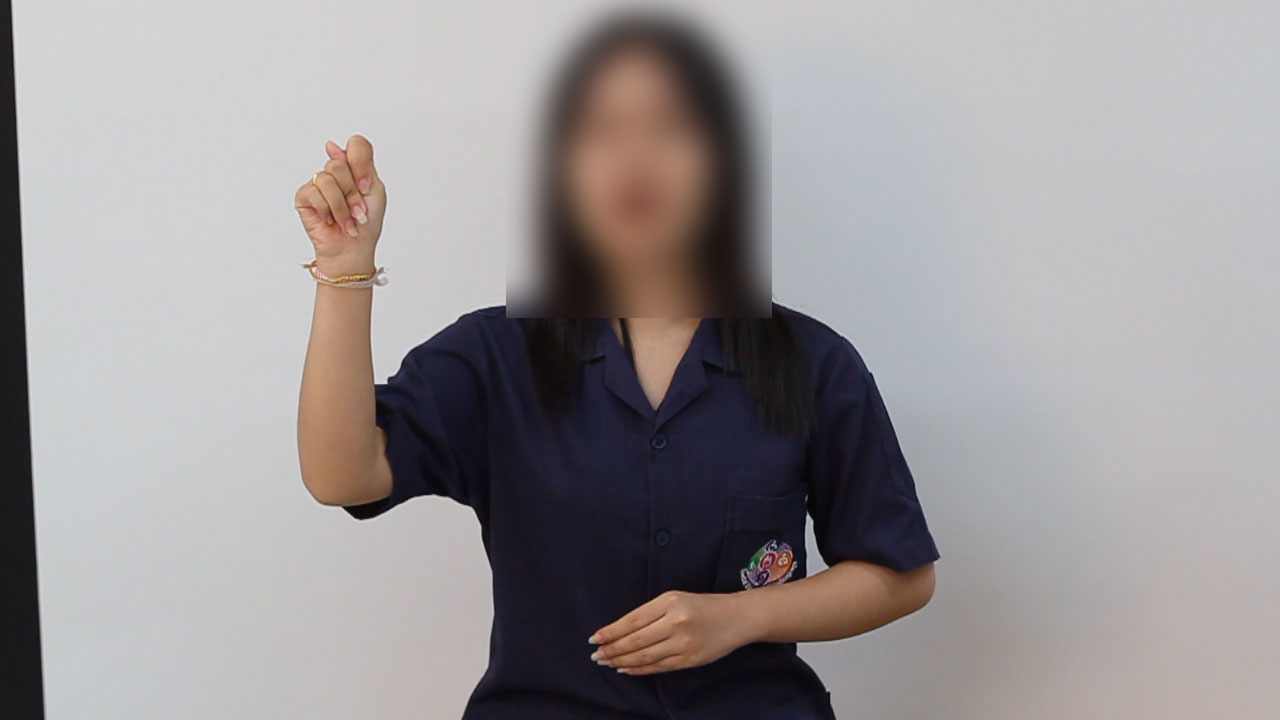tor: (271, 126, 418, 271)
